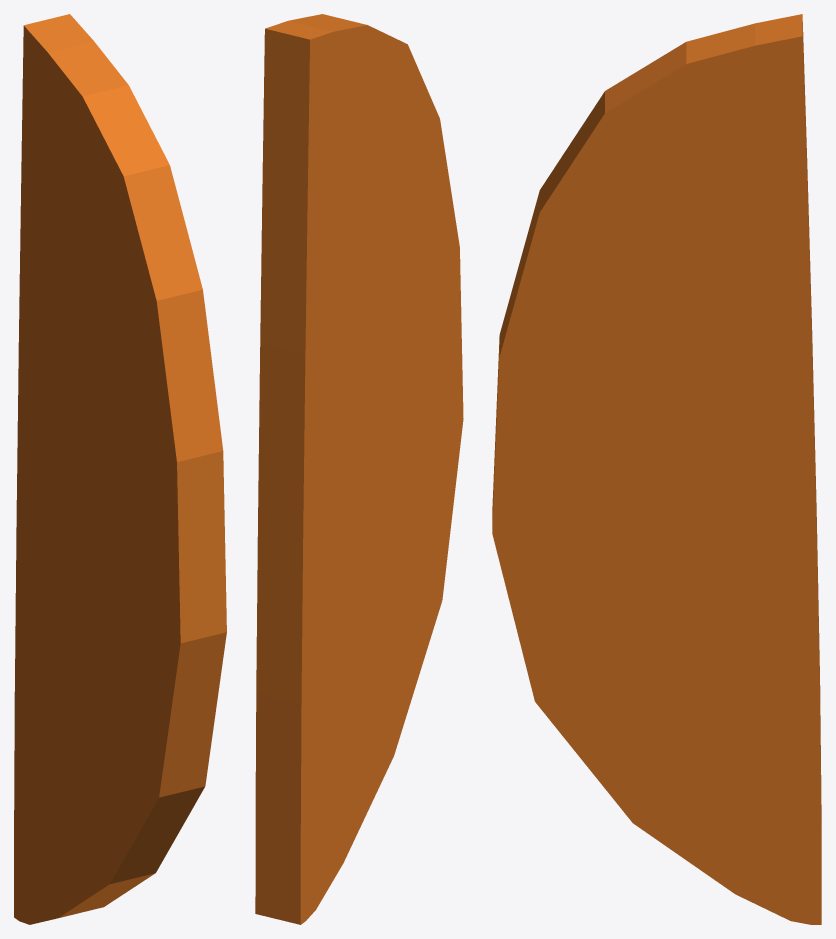
File: Rudder.glb
3 views of the same model, side by side, from view 1: azimuth 30°, elevation 25°; view 2: azimuth 150°, elevation 25°; view 3: azimuth 270°, elevation 25° (orthographic). The views are drawn at different scales.
Visible parts, largest first — view 1: Rudder; view 2: Rudder; view 3: Rudder.
Part boxes in pixels (x1,y1,x2,y2): Rudder: (14,14,226,924); Rudder: (255,14,463,924); Rudder: (492,14,821,924).
Size of the model in its own units: 0.005 by 0.0928 by 0.0312.
